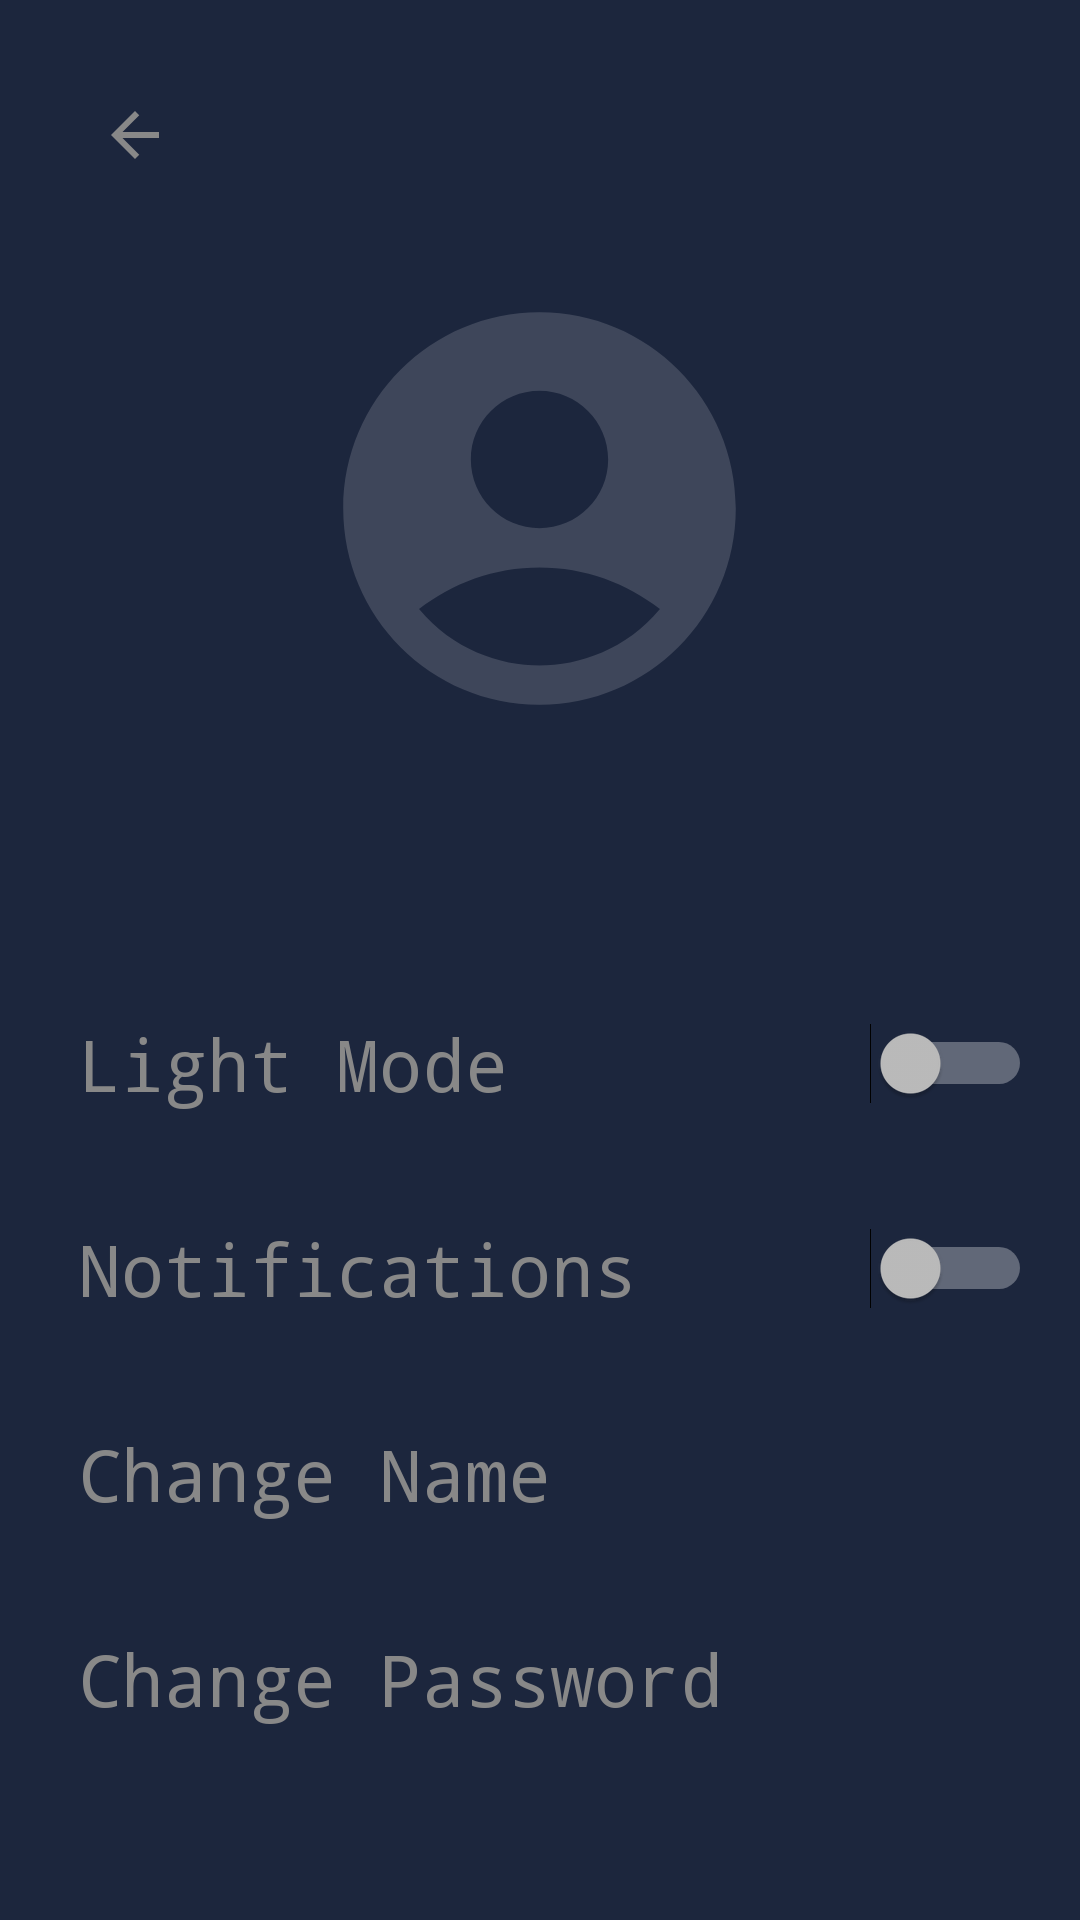

Screen size 1080*1920. Icon name, then its center in pixels as [x,y]:
arrow back: [135,135]
